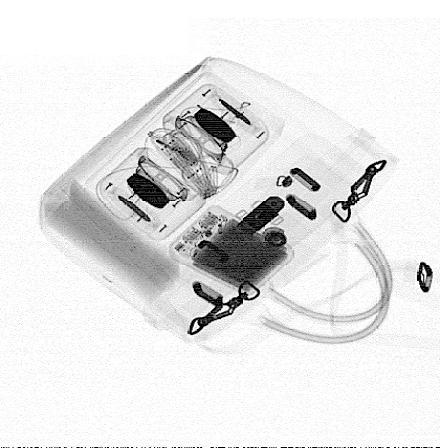Powerbank: (167, 203, 296, 297)
